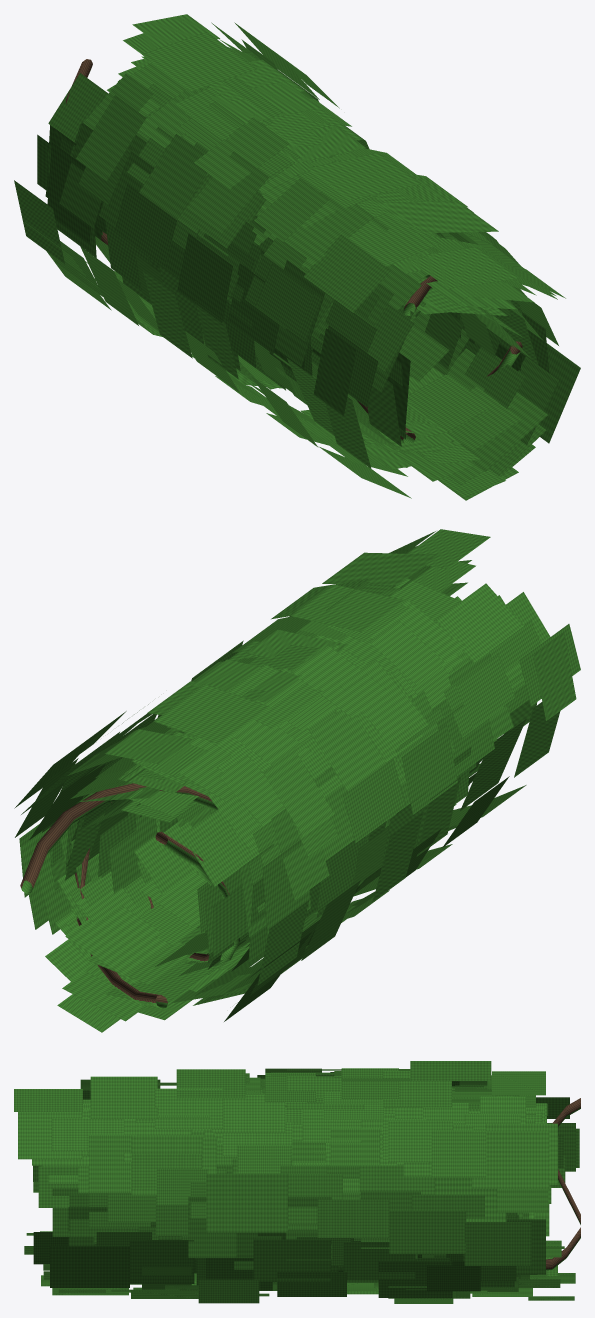
The model's file is veg_vine_ivy_01.obj.
3 renders of one model, top to bottom at view 1: azimuth 30°, elevation 25°; view 2: azimuth 150°, elevation 25°; view 3: azimuth 270°, elevation 25°, orthographic. The views are drawn at different scales.
Visible parts, largest first — view 1: veg_vine_ivy_01; view 2: veg_vine_ivy_01; view 3: veg_vine_ivy_01.
Part boxes in pixels (<box>): veg_vine_ivy_01: <box>14,14,580,500</box>; veg_vine_ivy_01: <box>14,529,580,1032</box>; veg_vine_ivy_01: <box>14,1061,580,1303</box>.
Bounding box in the file's own units: 0.7672 × 0.7705 × 1.8.
Materials: 1 (1 with a texture image).
